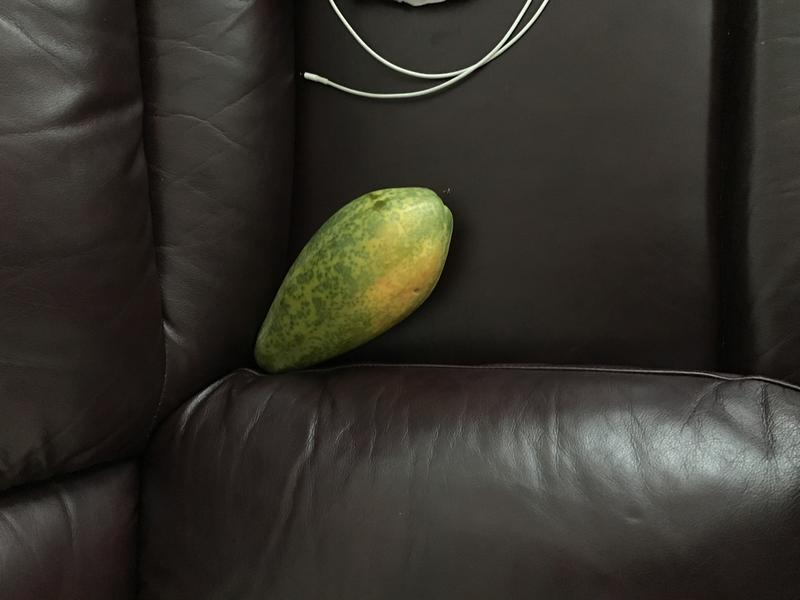papaya: (244, 178, 460, 379)
